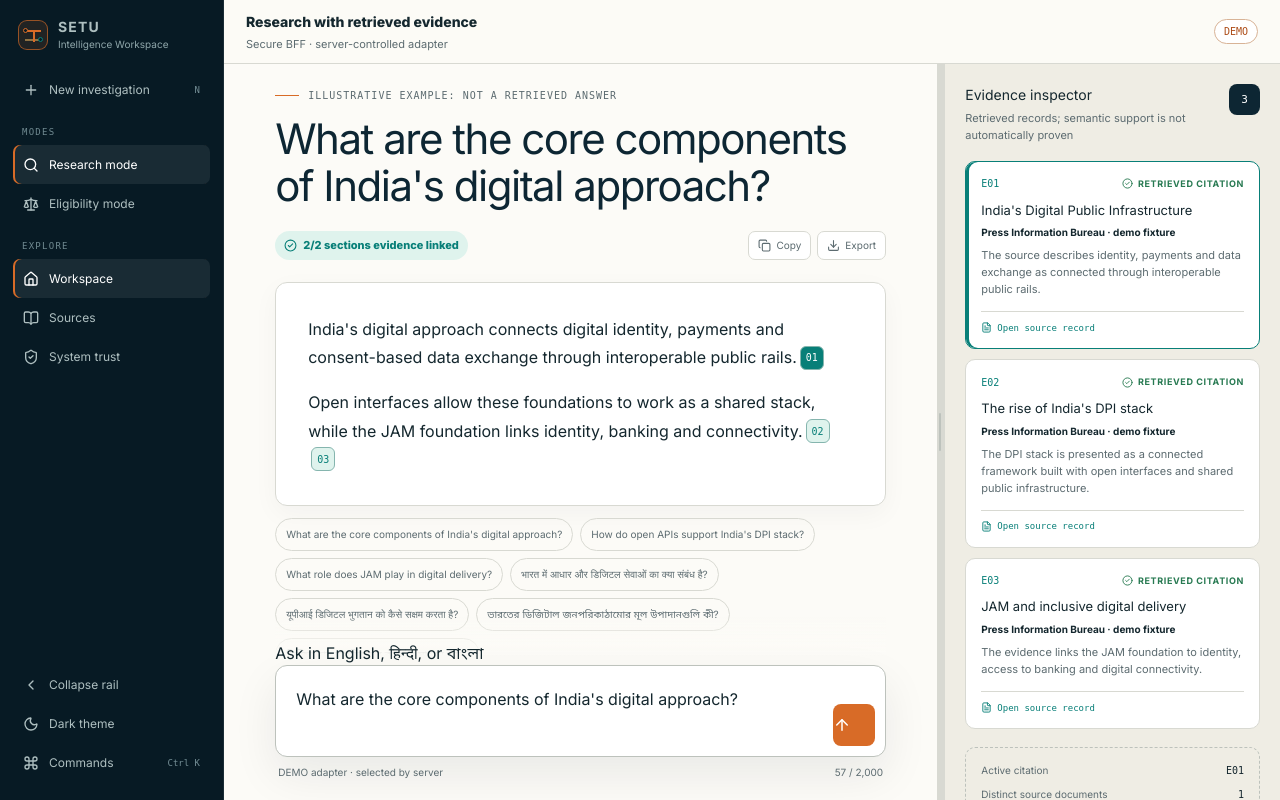
WorkspaceDemo › shows the eligibility notice as a notice, with official next steps
This screenshot has width=1280, height=800.
Click the button named "Run corpus investigation": (854, 725) [833,704,875,746]
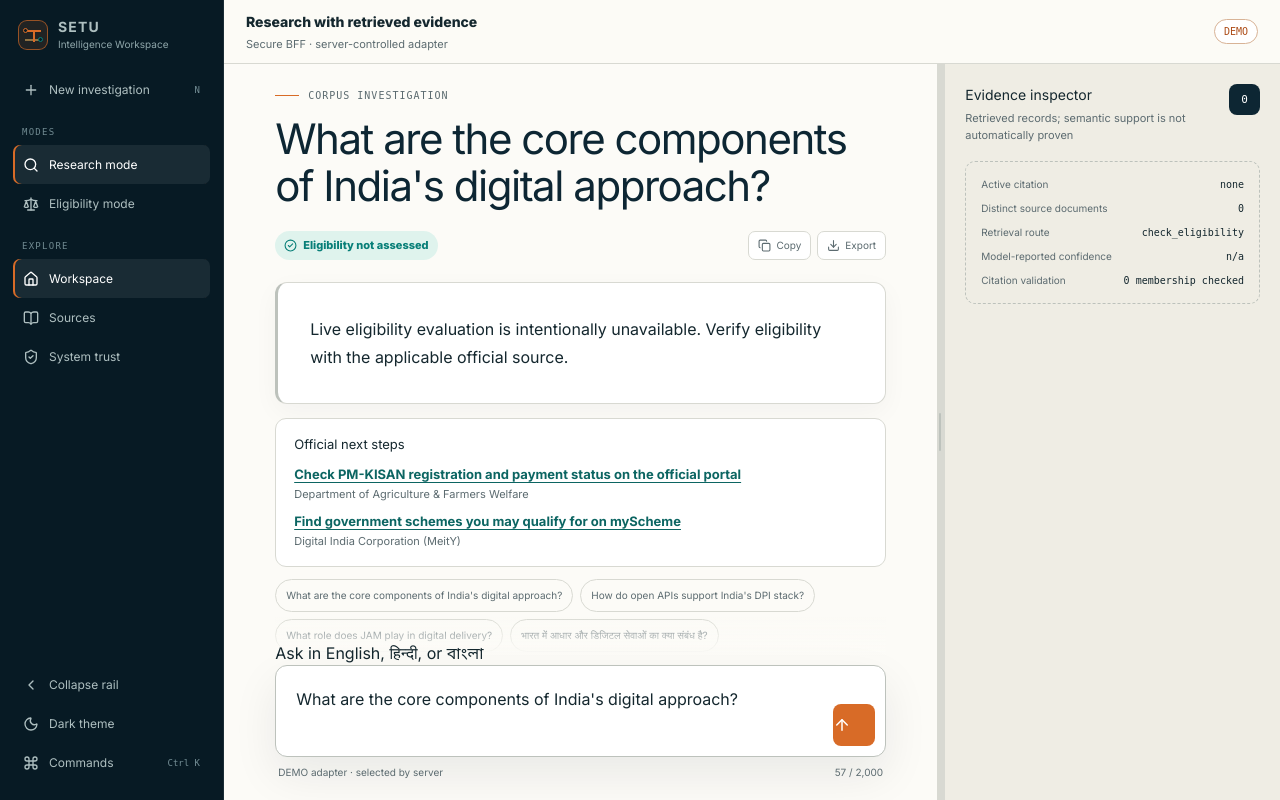
Now the element named "Eligibility not assessed" shows "Live eligibility evaluation is intentionally unavailable. Verify eligibility with the applicable official source.", box [310,319,821,367]
Now the text "Eligibility not assessed" is shown, box [275,231,438,260]
